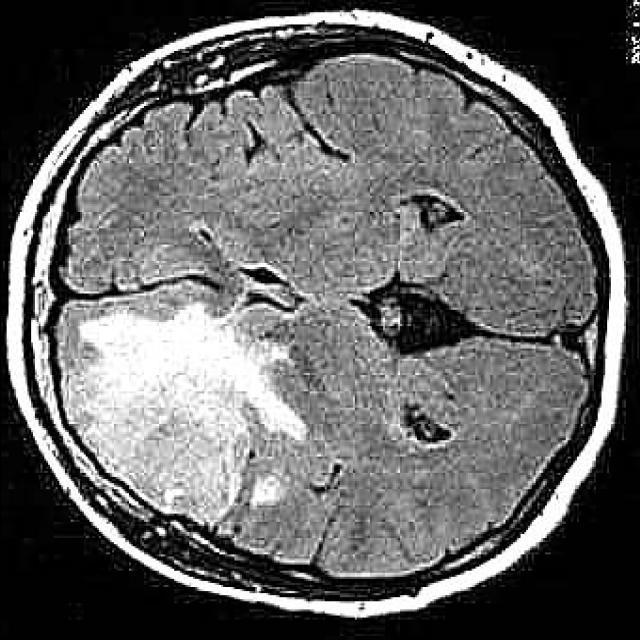tumor: (53, 306, 308, 526)
